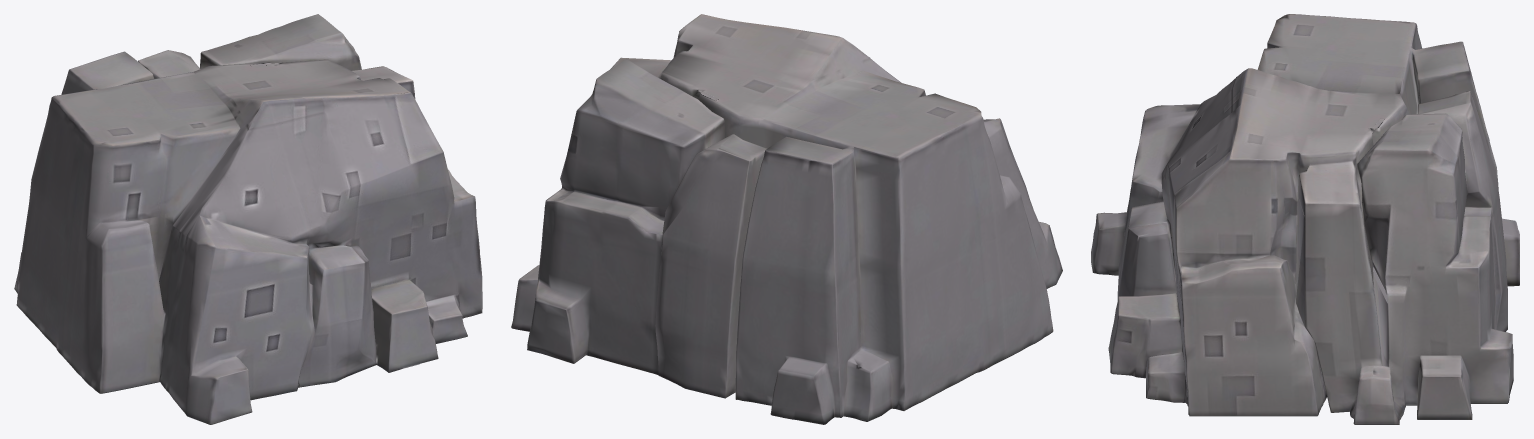
The model's file is rock_large.glb.
3 views of the same model, side by side, from view 1: azimuth 30°, elevation 25°; view 2: azimuth 150°, elevation 25°; view 3: azimuth 270°, elevation 25° (orthographic). The views are drawn at different scales.
Parts seen in each view (by area): view 1: tripo_node_dfafed4e-4019-43fe-95b2-ad574a7f81e1; view 2: tripo_node_dfafed4e-4019-43fe-95b2-ad574a7f81e1; view 3: tripo_node_dfafed4e-4019-43fe-95b2-ad574a7f81e1.
Boxes of the visible parts, x1=… form: tripo_node_dfafed4e-4019-43fe-95b2-ad574a7f81e1: x1=14, y1=14, x2=482, y2=424; tripo_node_dfafed4e-4019-43fe-95b2-ad574a7f81e1: x1=511, y1=14, x2=1062, y2=424; tripo_node_dfafed4e-4019-43fe-95b2-ad574a7f81e1: x1=1091, y1=14, x2=1519, y2=424.
Size of the model in its own units: 1 by 0.5871 by 0.9139.
Materials: 1 (1 with a texture image).
